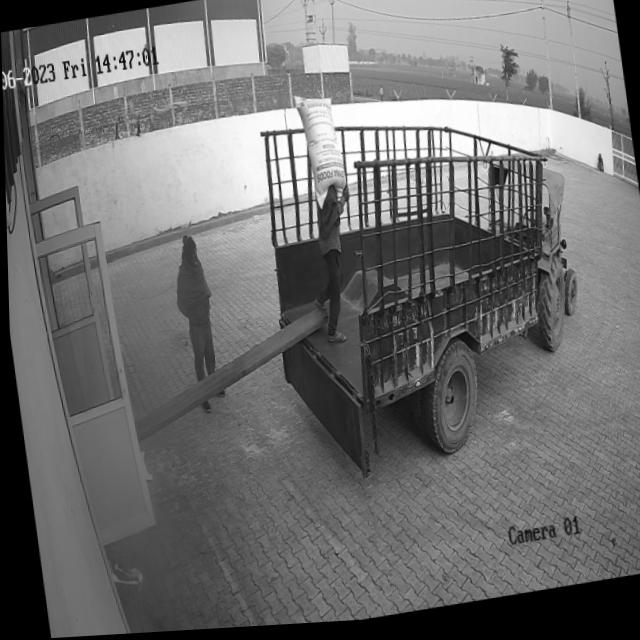sack: (291, 91, 346, 214)
